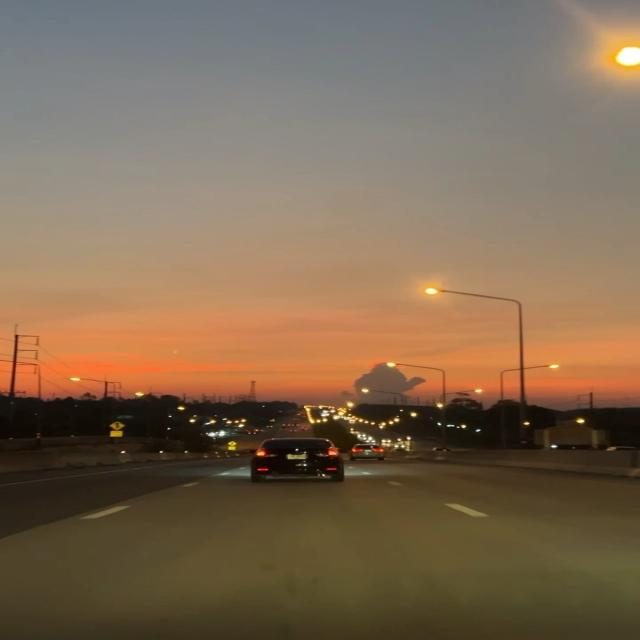Poth-hole: (75, 496, 592, 606)
